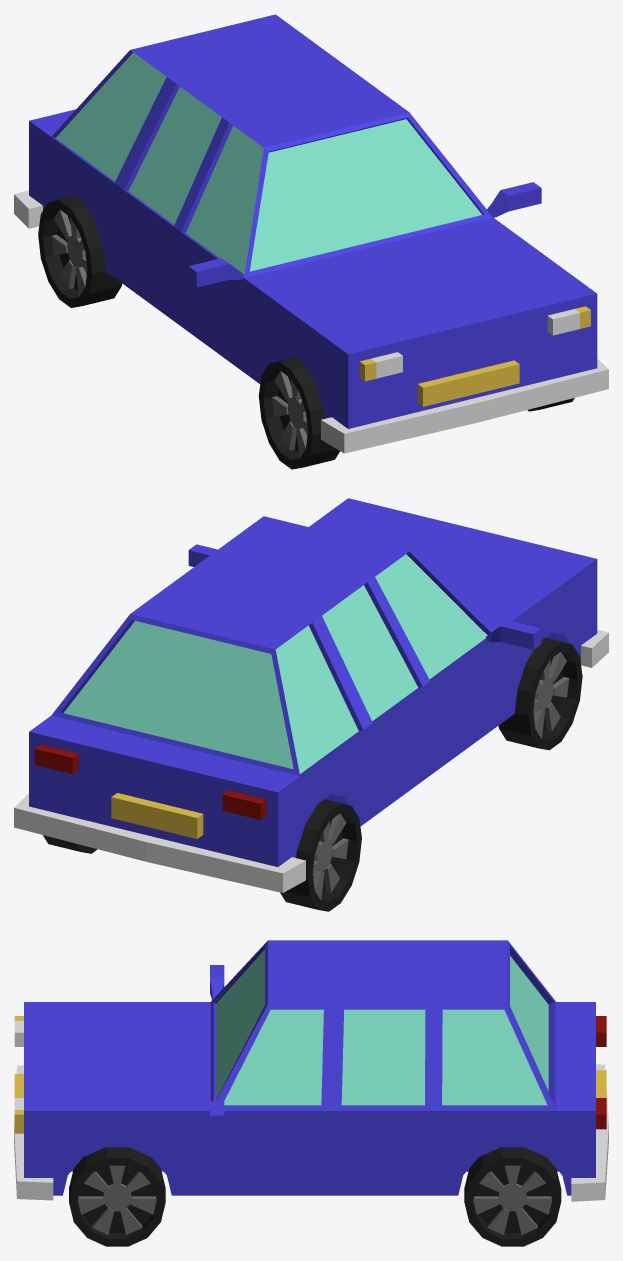
Rendered from FamilyVan.fbx.
The picture shows the model from 3 angles, top to bottom: view 1: azimuth 30°, elevation 25°; view 2: azimuth 150°, elevation 25°; view 3: azimuth 270°, elevation 25°; orthographic projection. The views are drawn at different scales.
Visible parts, largest first — view 1: FrontWheels.001; view 2: FrontWheels.001; view 3: FrontWheels.001.
Boxes of the visible parts, x1,y1,x2,y2 form: FrontWheels.001: (14, 14, 608, 469); FrontWheels.001: (14, 498, 608, 911); FrontWheels.001: (14, 940, 608, 1246).
Size of the model in its own units: 180 by 300 by 120.
